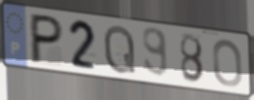2: (67, 18, 100, 74)
8: (179, 32, 206, 85)
9: (142, 26, 170, 83)
O: (211, 38, 244, 89)
P: (29, 12, 66, 66)
Q: (102, 23, 138, 76)
